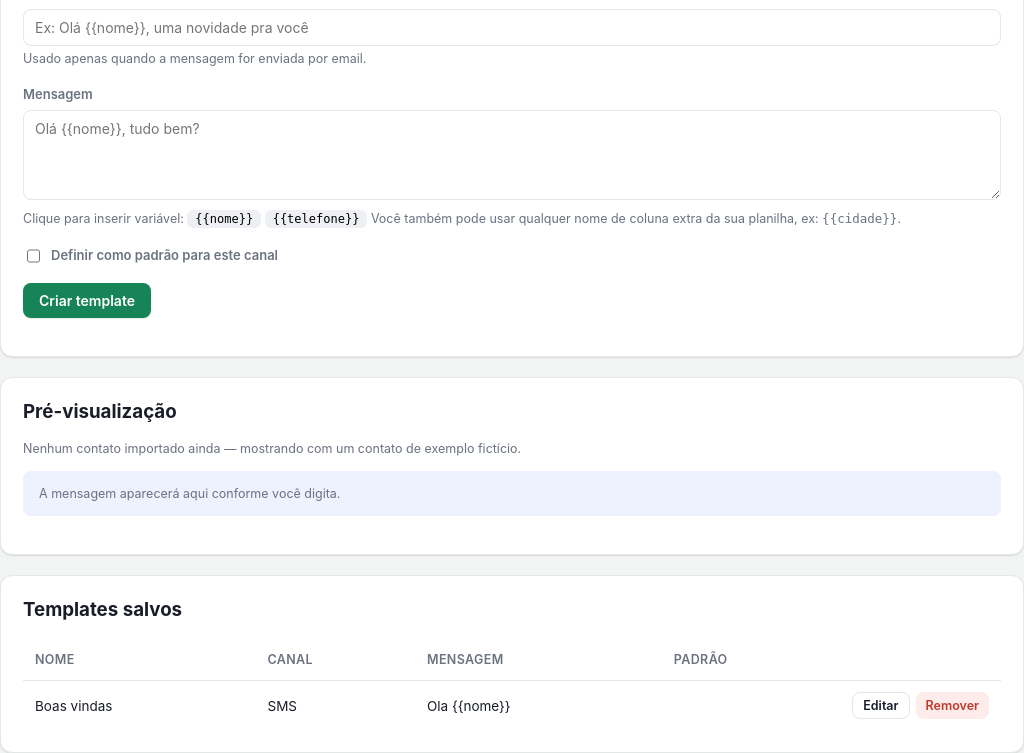
TemplatesPage › cancelling an edit resets the form back to "Novo template"
The image size is (1024, 753).
(page scrolled)
Expected: the text "Boas vindas" is shown, 23,681 -> 256,730
Click the button "Editar".
click(881, 706)  # box 852,692 -> 910,720
(page scrolled)
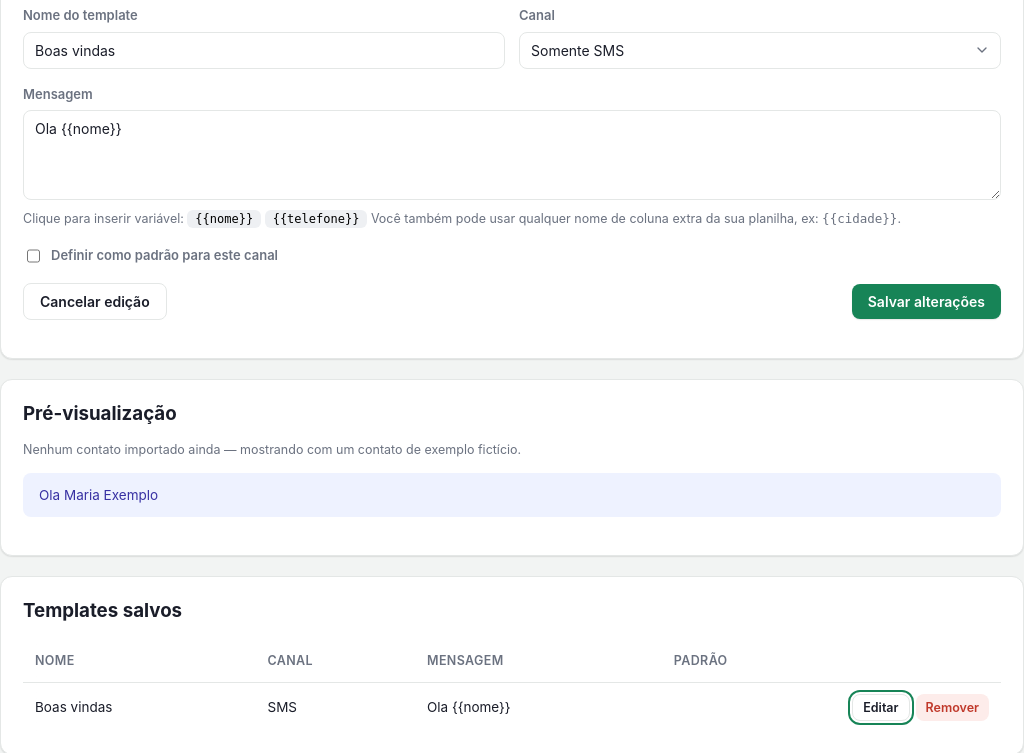
Click the button "Cancelar edição".
click(95, 302)  # box 23,283 -> 167,320
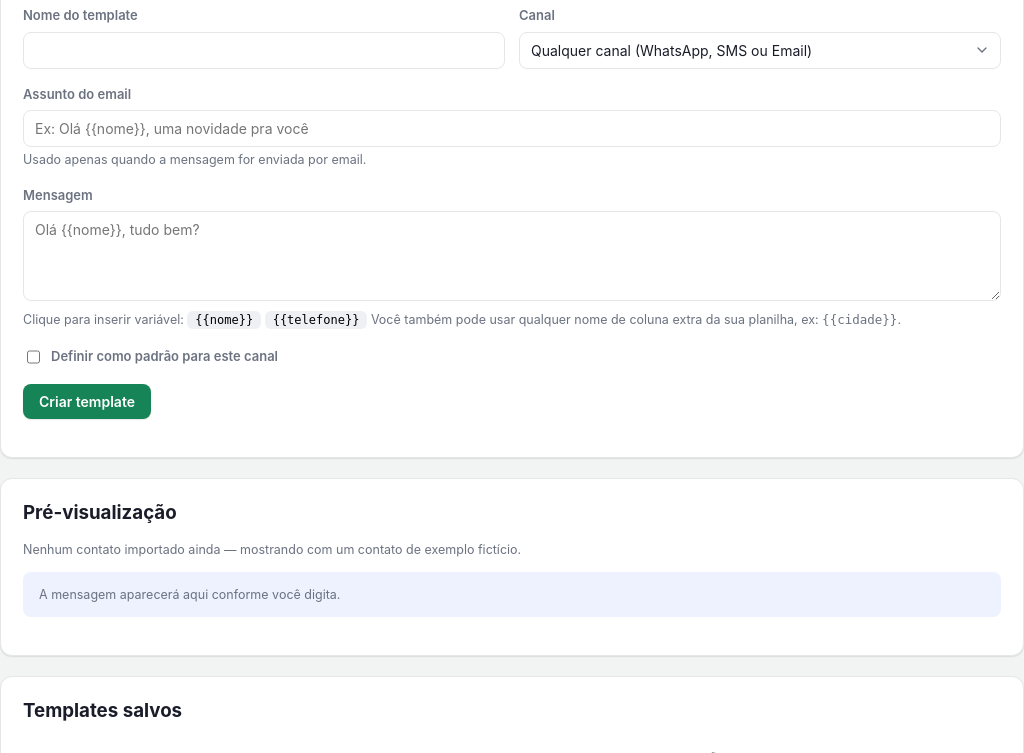
Result: the field labelled "Nome do template" is empty at 23,32 -> 505,69
